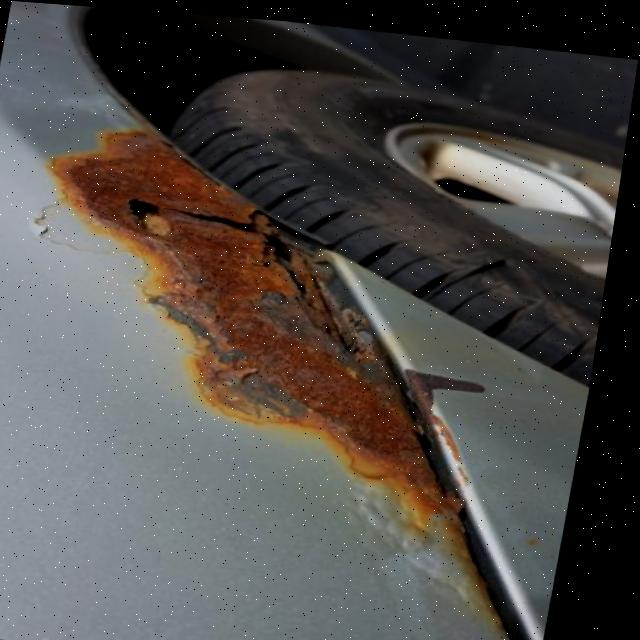corrosion: (5, 117, 533, 520)
